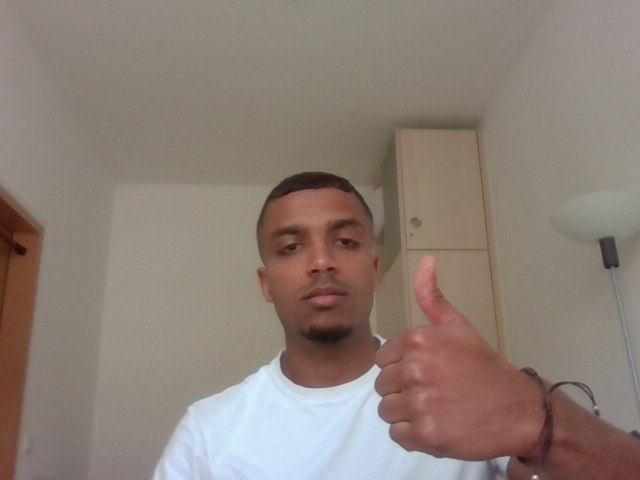yes: (370, 239, 536, 475)
